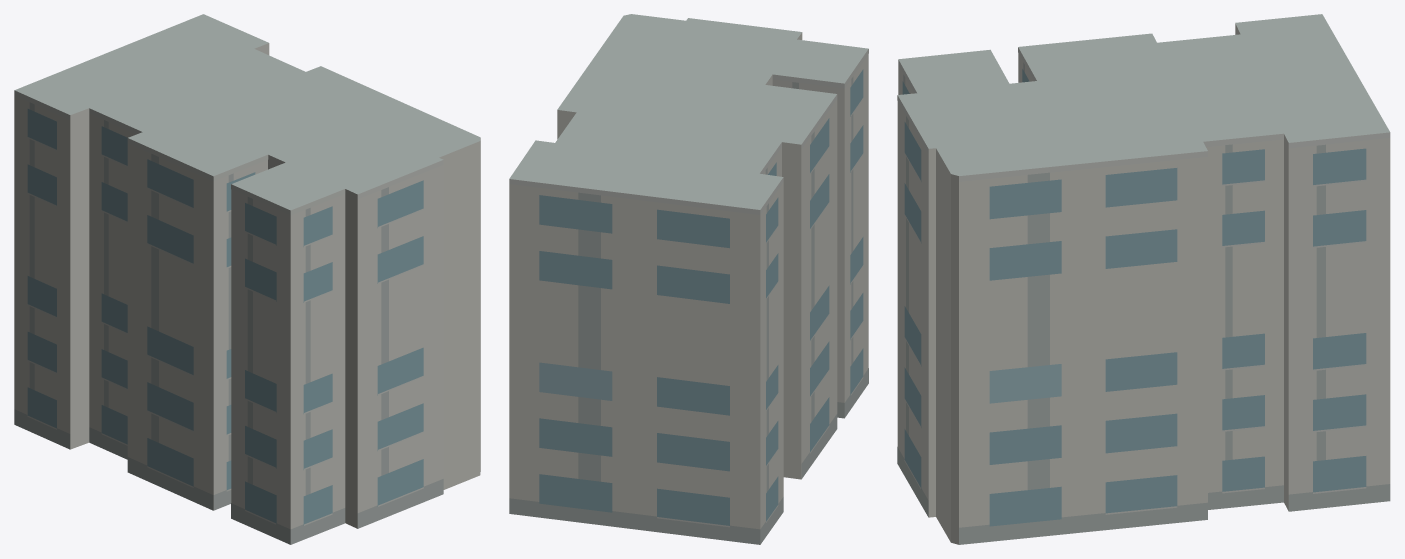
Rendered from survey-upis-32912466.glb.
The picture shows the model from 3 angles, left to right: view 1: azimuth 30°, elevation 25°; view 2: azimuth 150°, elevation 25°; view 3: azimuth 270°, elevation 25°; orthographic projection. The views are drawn at different scales.
Visible parts, largest first — view 1: survey-upis-32912466.tmp; view 2: survey-upis-32912466.tmp; view 3: survey-upis-32912466.tmp.
Part boxes in pixels (x1,y1,x2,y2): survey-upis-32912466.tmp: (14,14,480,544); survey-upis-32912466.tmp: (509,14,868,544); survey-upis-32912466.tmp: (897,14,1390,544).
Bounding box in the file's own units: 15.1 × 16 × 19.39.
